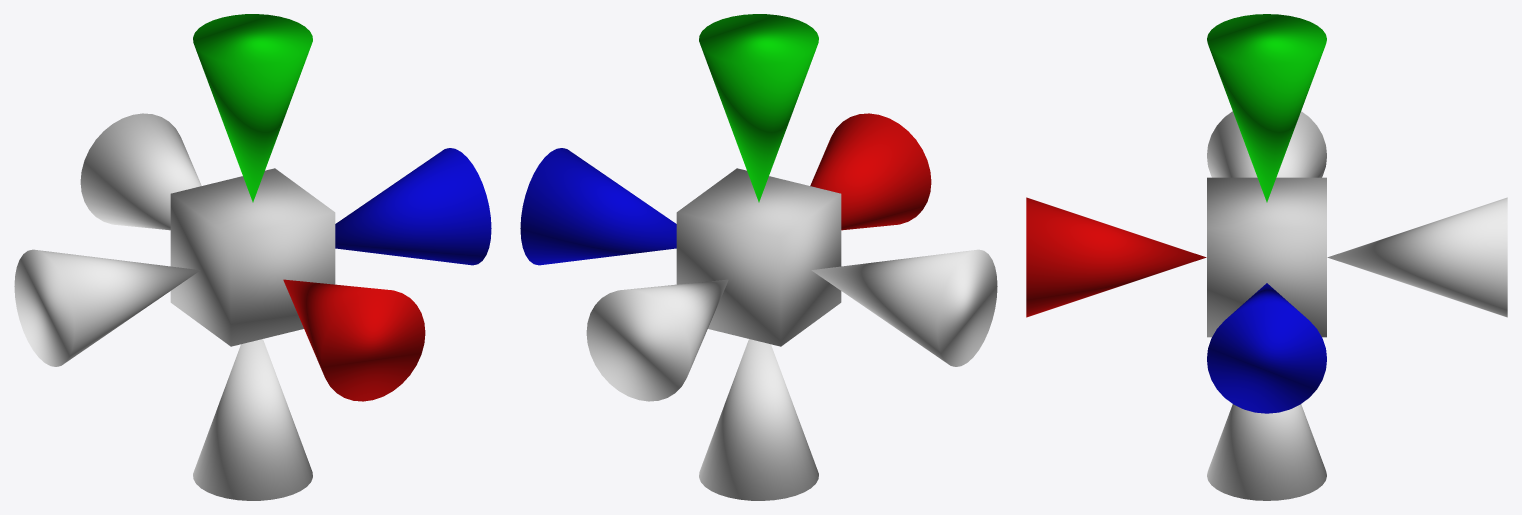
The model's file is icon.fbx.
3 views of the same model, side by side, from view 1: azimuth 30°, elevation 25°; view 2: azimuth 150°, elevation 25°; view 3: azimuth 270°, elevation 25° (orthographic).
Visible parts, largest first — view 1: Cube, Cone_Z_opposite, Cone_Y_green, Cone_Y_opposite, Cone_Z_blue, Cone_X_red, Cone_X_opposite; view 2: Cube, Cone_Z_opposite, Cone_Y_green, Cone_Y_opposite, Cone_Z_blue, Cone_X_opposite, Cone_X_red; view 3: Cube, Cone_Y_green, Cone_X_opposite, Cone_X_red, Cone_Z_blue, Cone_Y_opposite, Cone_Z_opposite.
Part boxes in pixels (x1,y1,x2,y2): Cube: [170, 168, 335, 346]; Cone_Z_opposite: [14, 249, 200, 366]; Cone_Y_green: [193, 14, 312, 202]; Cone_Y_opposite: [193, 339, 312, 500]; Cone_Z_blue: [335, 148, 491, 265]; Cone_X_red: [283, 279, 425, 401]; Cone_X_opposite: [80, 113, 201, 230]; Cube: [676, 168, 841, 346]; Cone_Z_opposite: [811, 249, 997, 366]; Cone_Y_green: [699, 14, 818, 202]; Cone_Y_opposite: [699, 339, 818, 500]; Cone_Z_blue: [520, 148, 676, 265]; Cone_X_opposite: [586, 279, 728, 401]; Cone_X_red: [810, 113, 931, 230]; Cube: [1207, 177, 1326, 337]; Cone_Y_green: [1207, 14, 1326, 202]; Cone_X_opposite: [1327, 197, 1507, 317]; Cone_X_red: [1026, 197, 1206, 317]; Cone_Z_blue: [1207, 283, 1326, 413]; Cone_Y_opposite: [1207, 404, 1326, 500]; Cone_Z_opposite: [1207, 111, 1326, 177].
Bounding box in the file's own units: 8 × 8 × 8.
